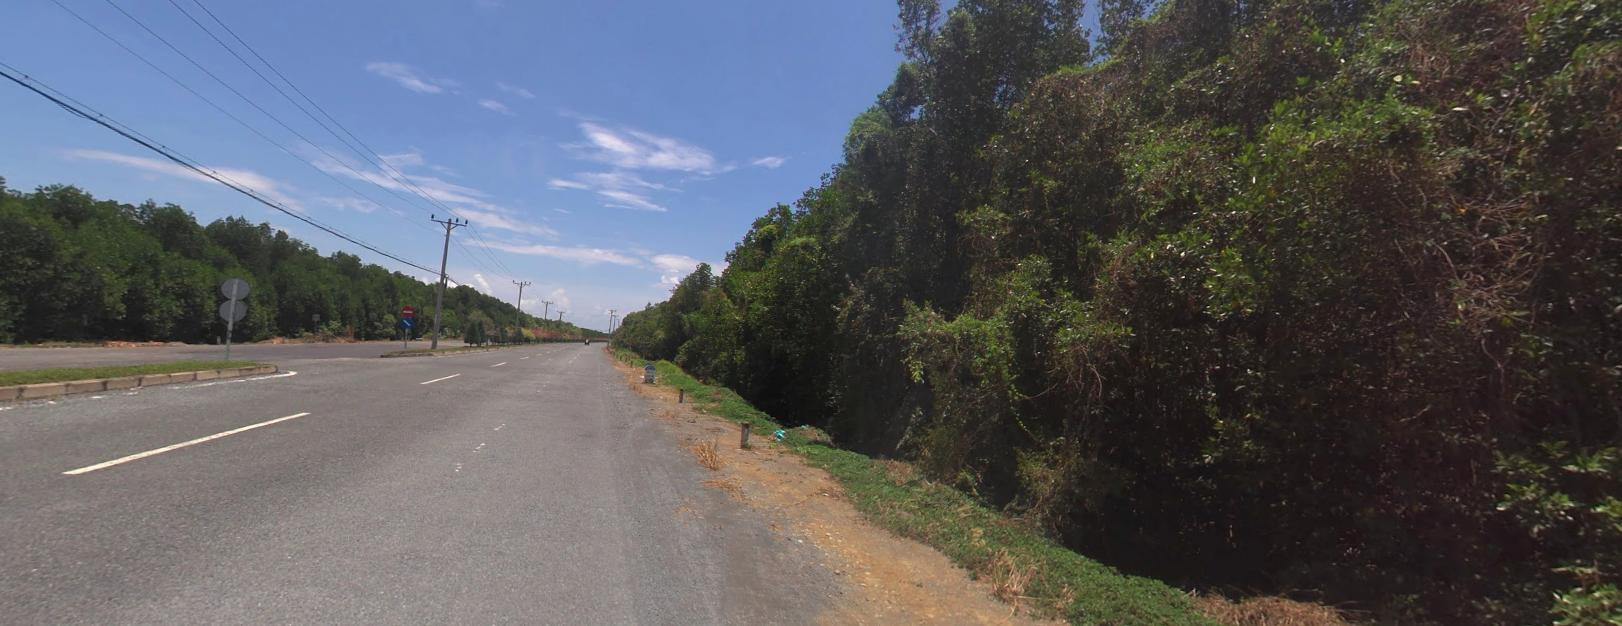Cam nguoc chieu: (402, 304, 413, 315)
Hieu lenh: (400, 316, 412, 327)
